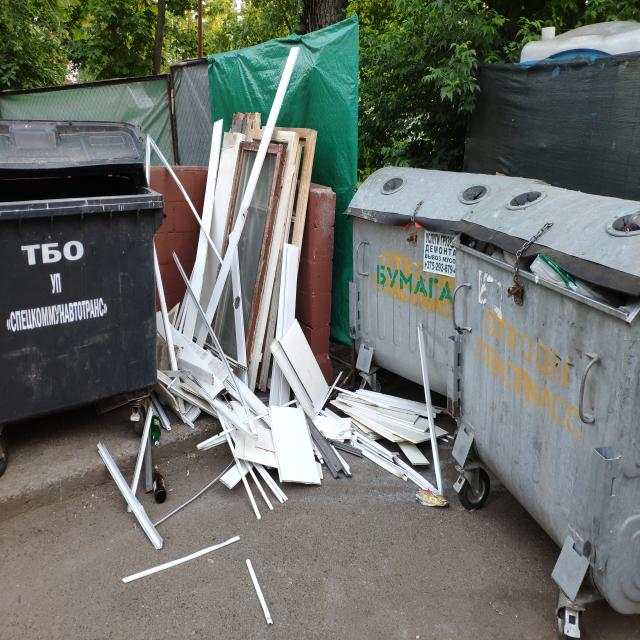entulho: (210, 130, 321, 400), (251, 311, 334, 486), (168, 119, 225, 354), (100, 445, 162, 548), (122, 534, 244, 586), (328, 386, 435, 444), (162, 317, 228, 397), (352, 434, 434, 491), (418, 324, 444, 492), (217, 388, 254, 493), (262, 45, 302, 127), (247, 560, 275, 630)
lixo domiciliar: (531, 252, 581, 292), (492, 246, 516, 266)
